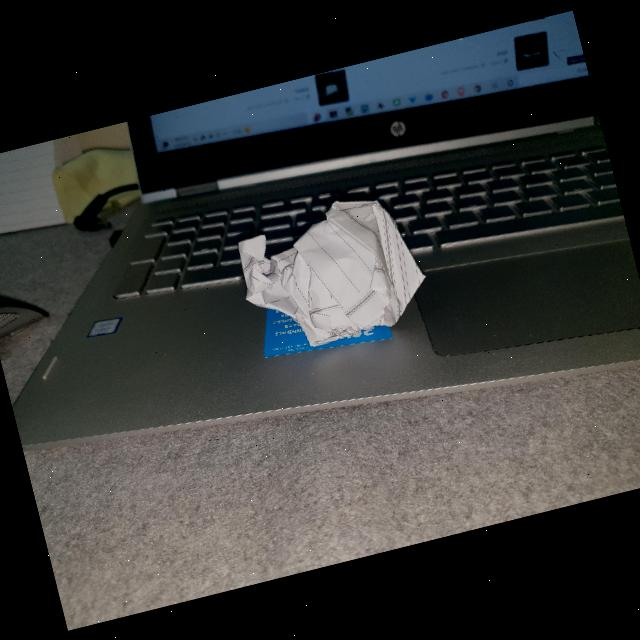trash: (213, 175, 444, 368)
